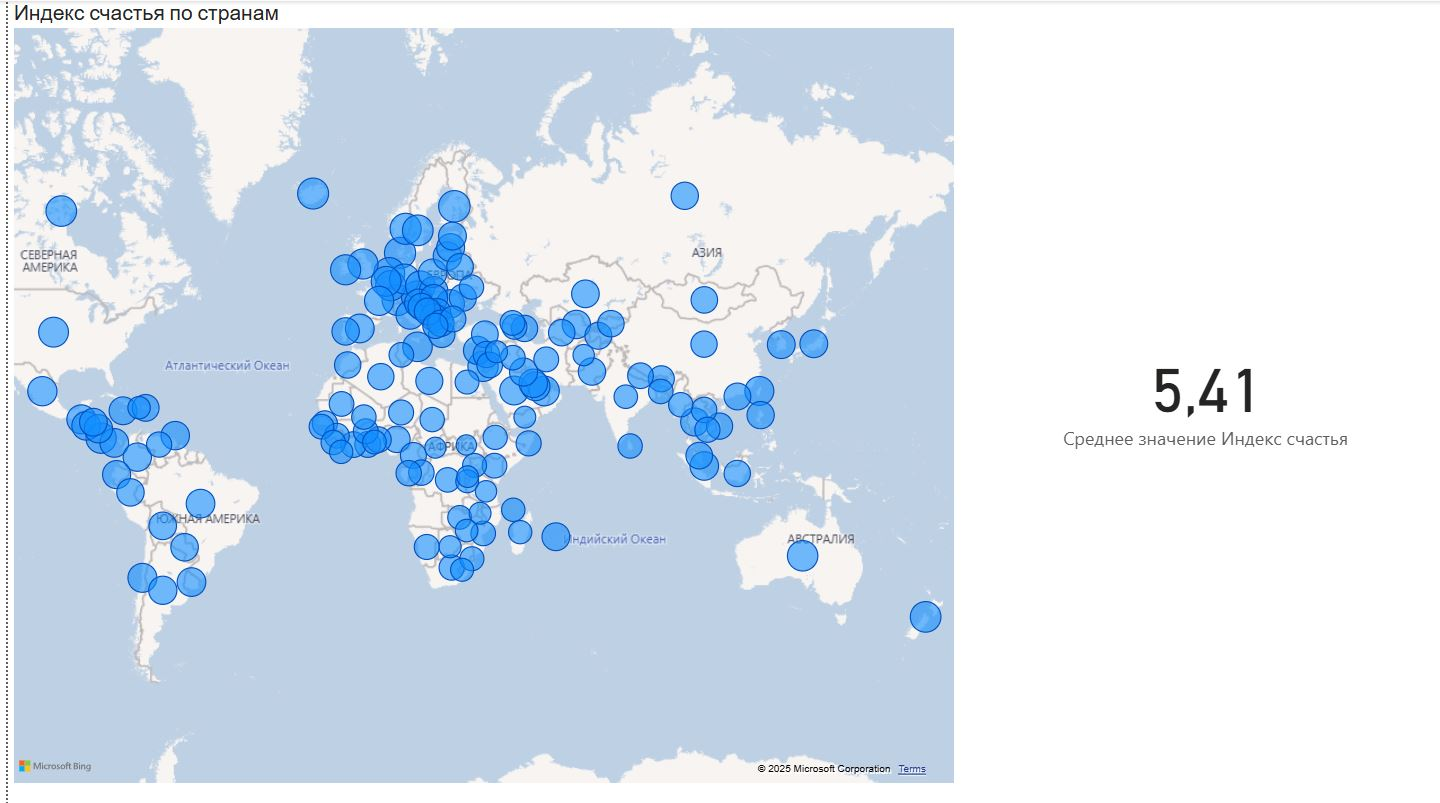

What the dashboard file says about the page in this screenshot:
{"tool":"powerbi","page":{"name":"Общие сведения","canvas":[1280,720],"ordinal":0},"visuals":[{"type":"map","title":"Индекс счастья по странам","fields":{"Category":["2019.Страна"],"Size":["Sum(2019.Индекс счастья)"]},"box":[0,0,844.1,697.8],"z":0},{"type":"card","fields":{"Values":["select","Avg(2019.Индекс счастья)"]},"box":[844.5,0,435.5,698.1],"z":2}]}

Visuals, with their boxes in screenshot pixels (x1, y1, x2, y2), scaled from the page's 1280x720 canvas onto the 1440x803 screenshot:
"Индекс счастья по странам" map: {"left": 0, "top": 0, "right": 950, "bottom": 778}
card - select x Avg(2019.Индекс счастья): {"left": 950, "top": 0, "right": 1439, "bottom": 779}
